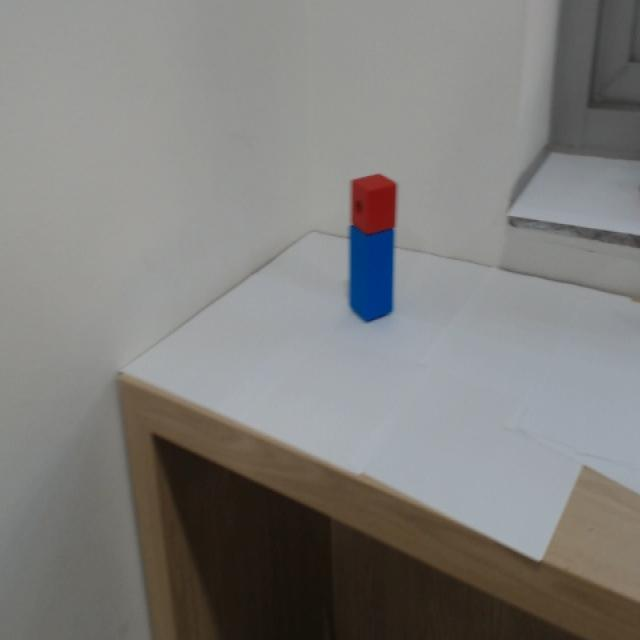cube: (341, 168, 424, 235)
